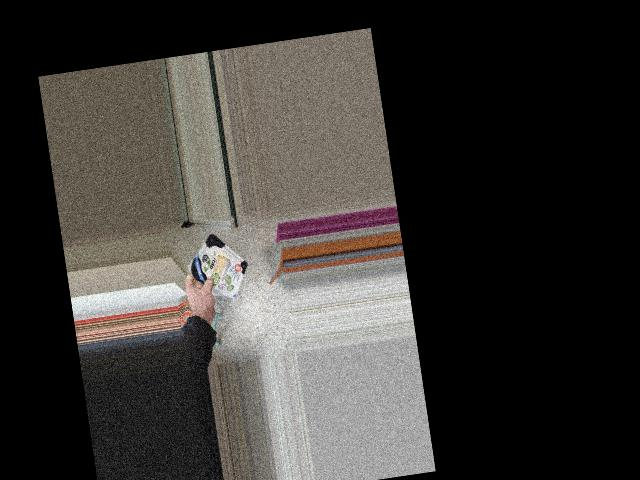cheese: (171, 238, 254, 297)
